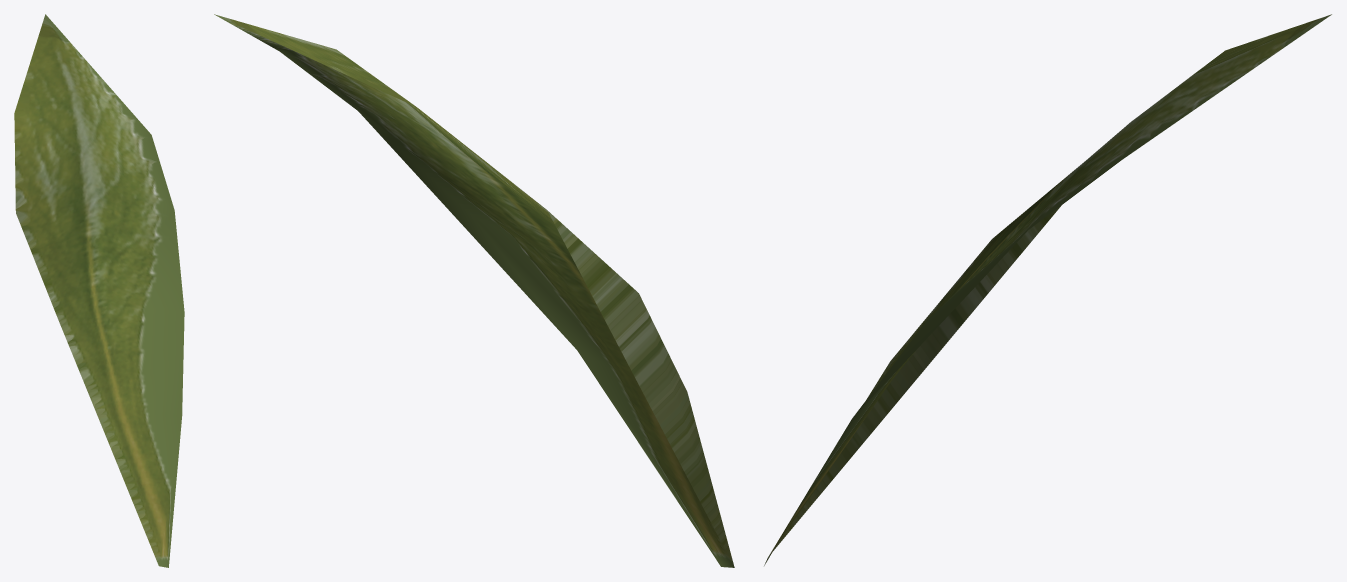
The model's file is chamomile_middleleaf.glb.
The picture shows the model from 3 angles, left to right: view 1: azimuth 30°, elevation 25°; view 2: azimuth 150°, elevation 25°; view 3: azimuth 270°, elevation 25°; orthographic projection. The views are drawn at different scales.
Visible parts, largest first — view 1: Chamomile_Bush3; view 2: Chamomile_Bush3; view 3: Chamomile_Bush3.
Part boxes in pixels (box(x1,y1,x2,y2)): Chamomile_Bush3: box(14, 14, 184, 567); Chamomile_Bush3: box(214, 14, 734, 567); Chamomile_Bush3: box(764, 14, 1331, 565).
Bounding box in the file's own units: 0.017 × 0.0475 × 0.0407.
1 material, 1 textured.
